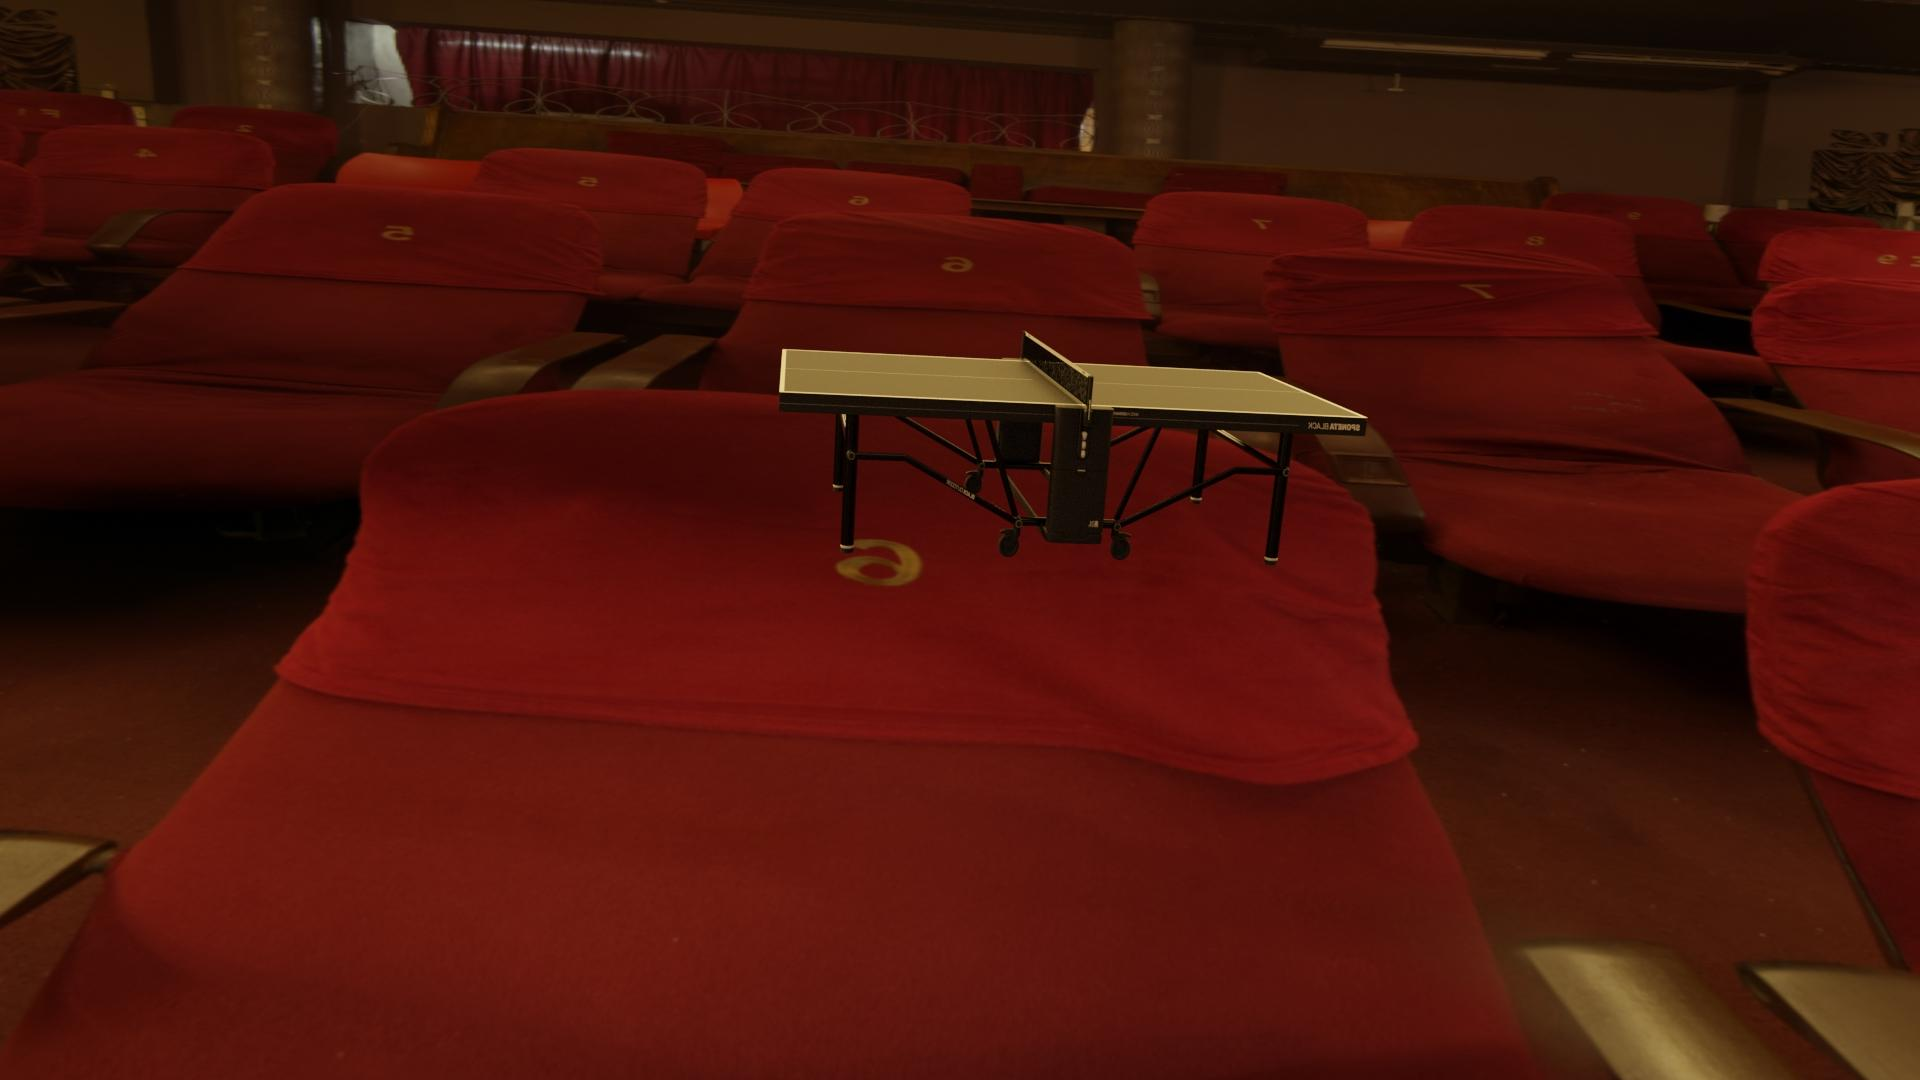table: (785, 349, 1362, 417)
